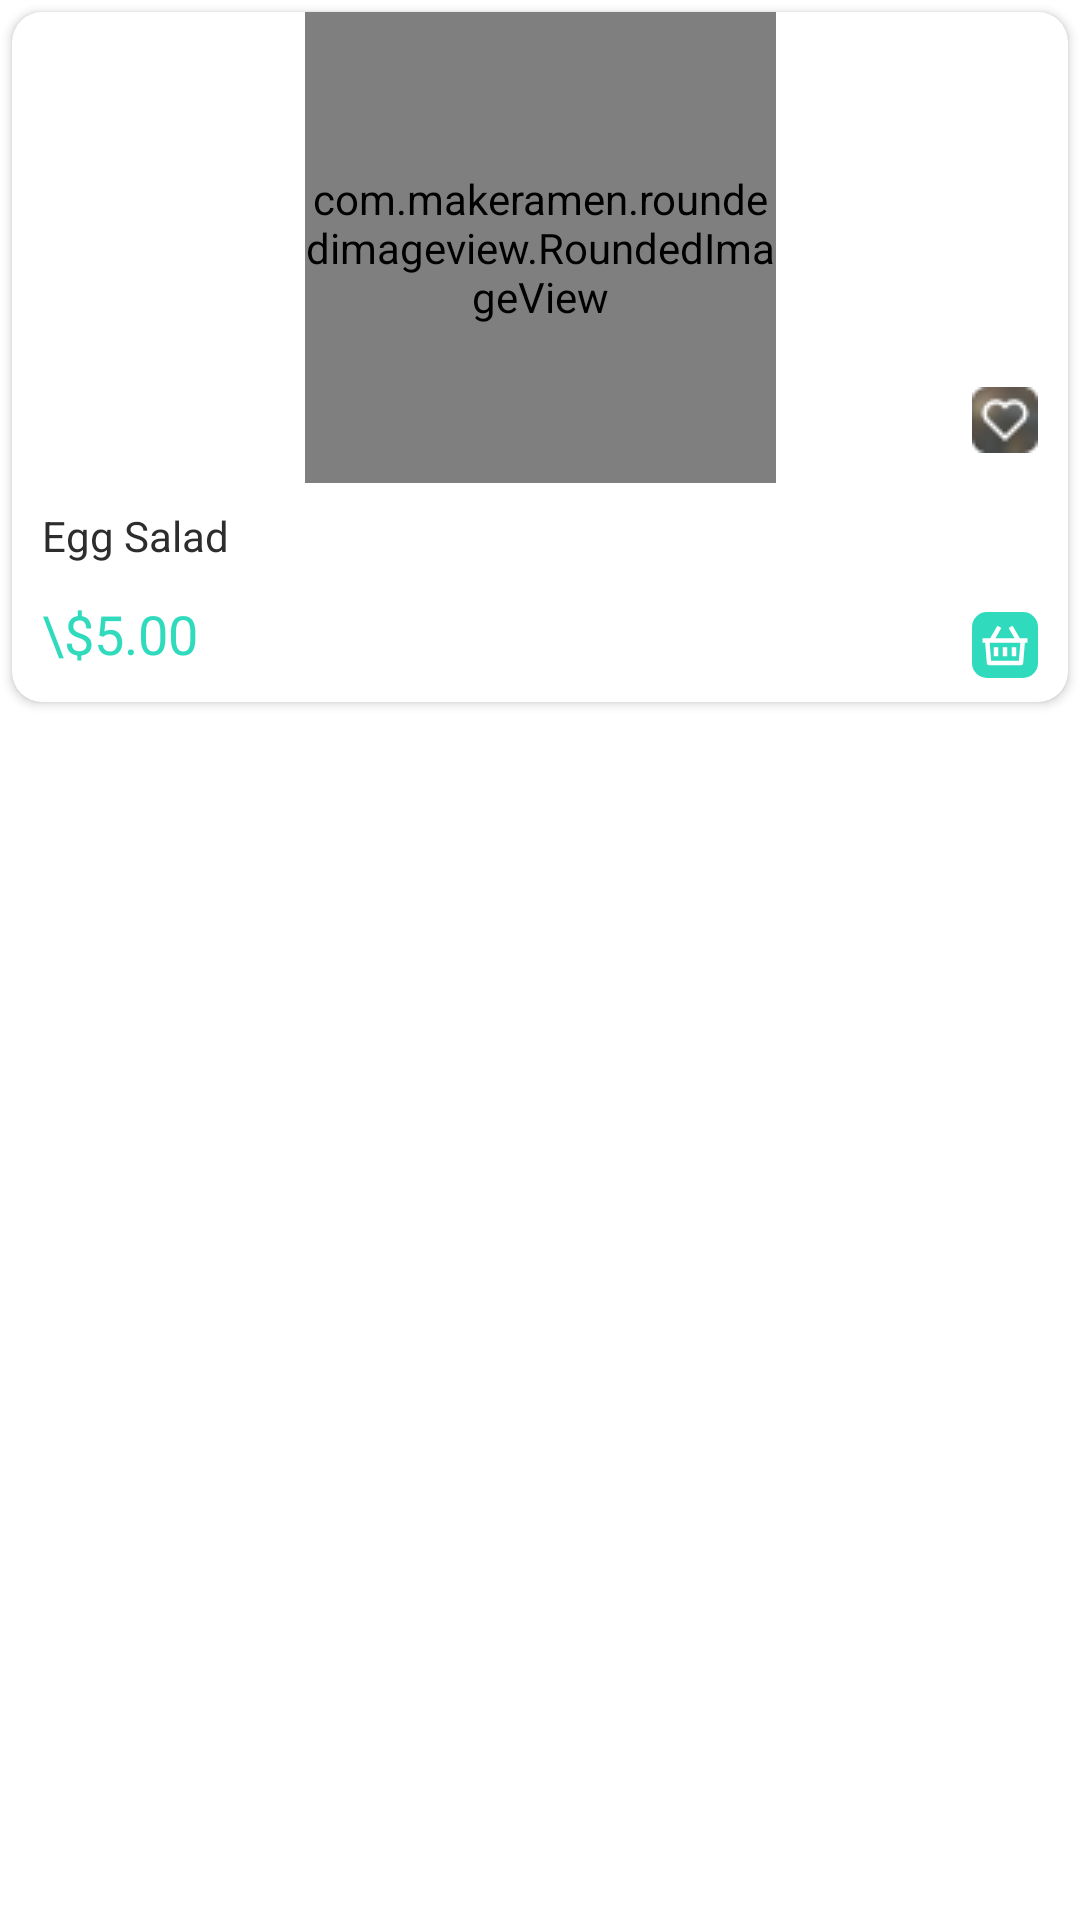

Icon bounding boxes for this 1080px×1920px phone screenshot, format (x1, y1, x2, y2):
boxed heart: (972, 387, 1038, 453)
